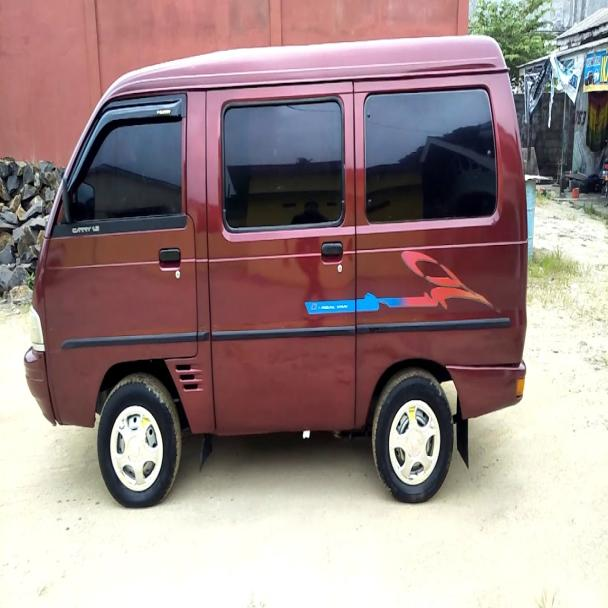Mobil: (22, 30, 530, 507)
